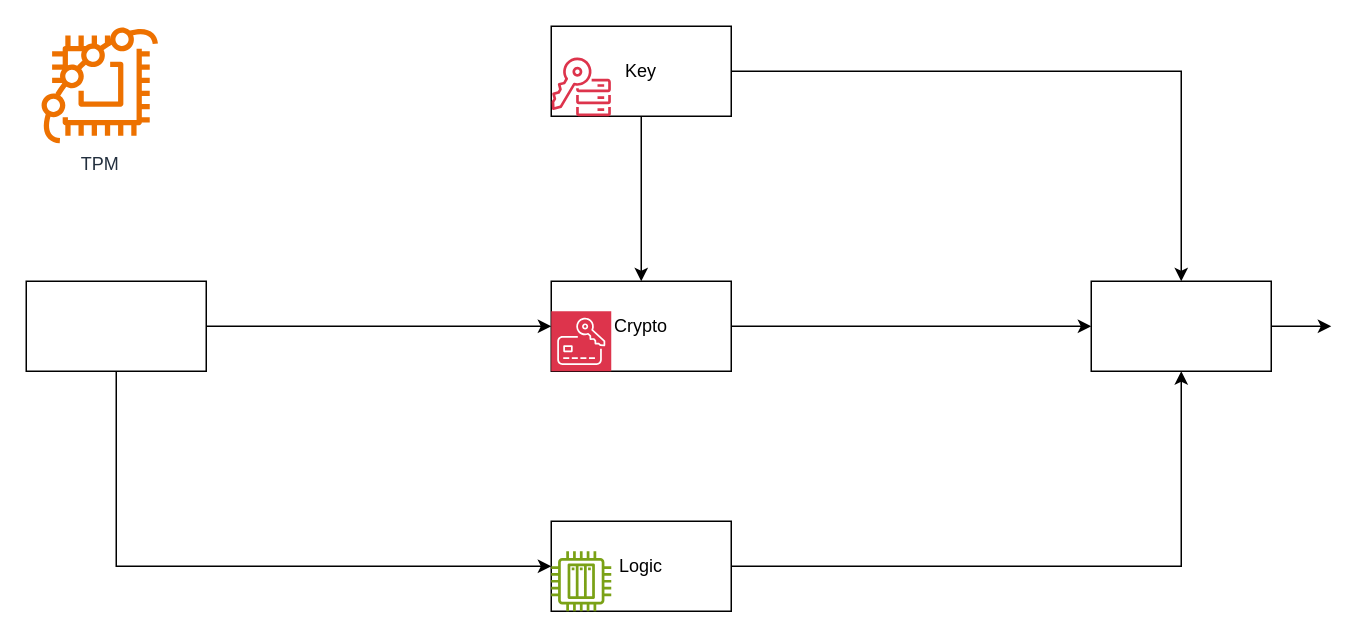
This 1370x638 diagram has some shape labels left out. Here are the shapes that lost their labels. From the top down, the centre of each, then its label:
At point (115, 325): "Input".
At point (1180, 325): "Mux".
